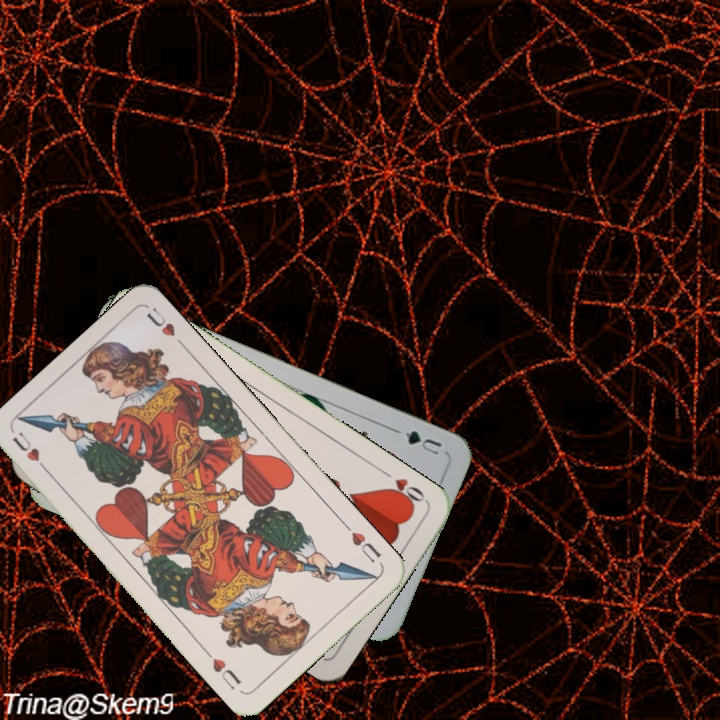GU: (391, 425, 445, 458)
HO: (377, 465, 429, 510)
HU: (8, 428, 53, 477), (340, 520, 384, 566)
